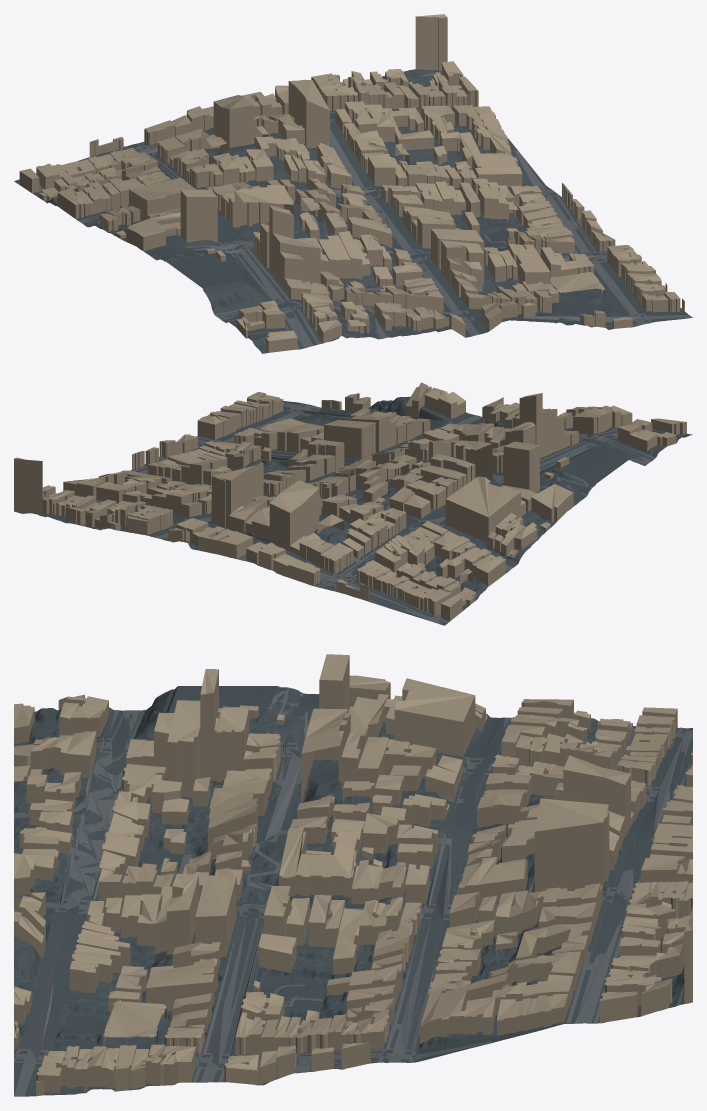
The model's file is epsg26910-1435-10895.lod0.glb.
The picture shows the model from 3 angles, top to bottom: view 1: azimuth 30°, elevation 25°; view 2: azimuth 150°, elevation 25°; view 3: azimuth 270°, elevation 25°; orthographic projection. The views are drawn at different scales.
Parts seen in each view (by area): view 1: epsg26910-1435-10895-lod0; view 2: epsg26910-1435-10895-lod0; view 3: epsg26910-1435-10895-lod0.
Part boxes in pixels (box(x1,y1,x2,y2)): epsg26910-1435-10895-lod0: box(14, 14, 692, 353); epsg26910-1435-10895-lod0: box(14, 382, 692, 625); epsg26910-1435-10895-lod0: box(14, 654, 692, 1096).
Size of the model in its own units: 384 by 122 by 384.
